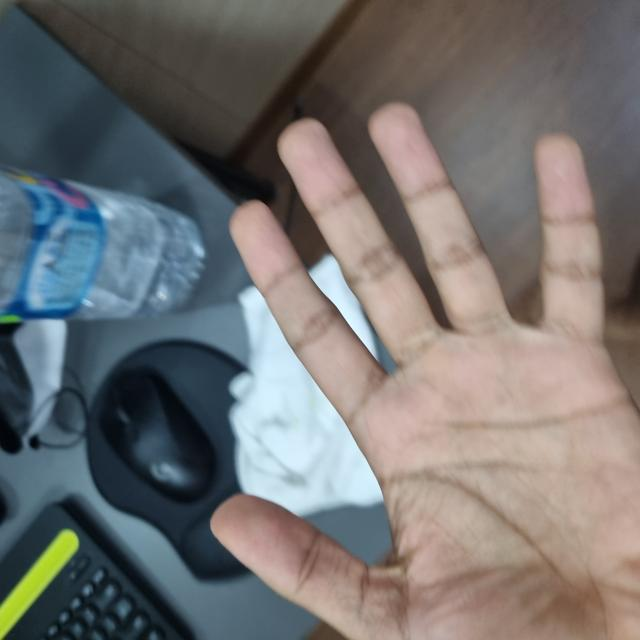Paper: (0, 221, 526, 639)
